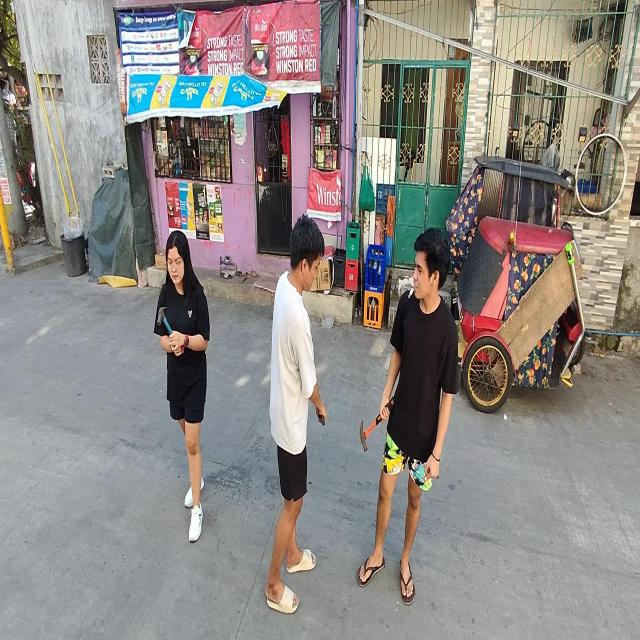hammer: (360, 396, 394, 452), (157, 306, 173, 334)
